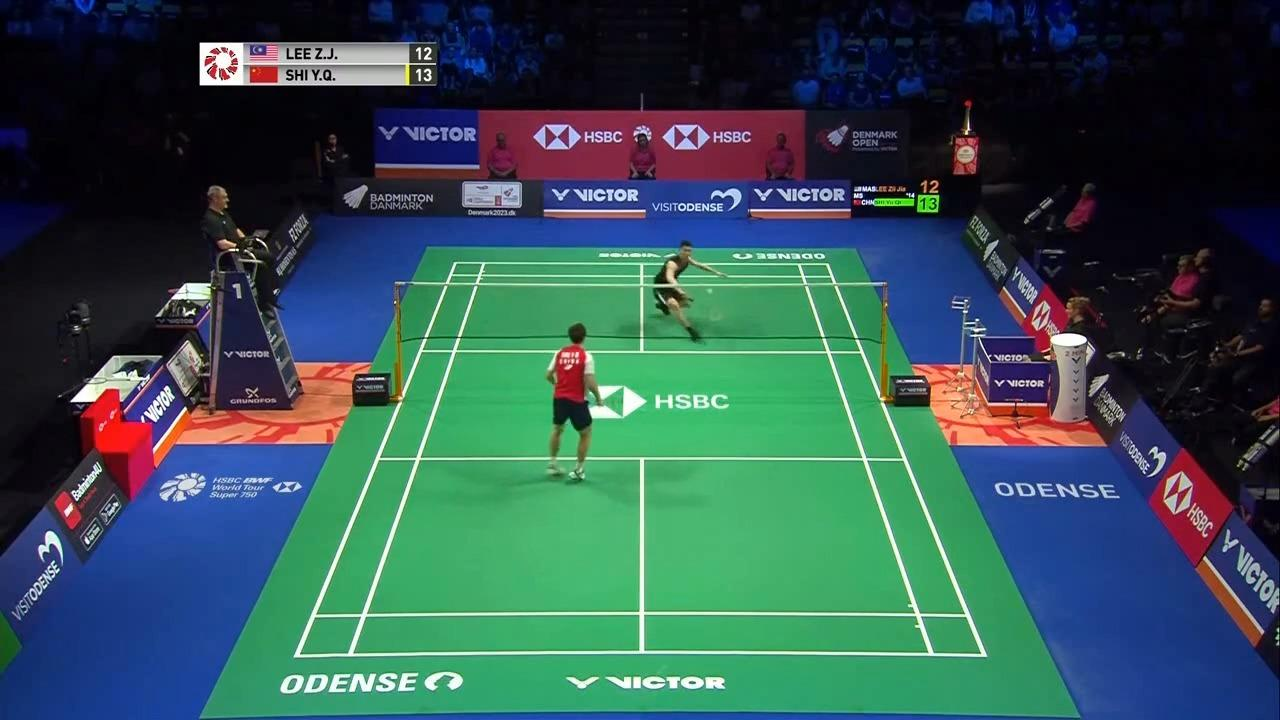shuttle: (704, 286, 714, 297)
